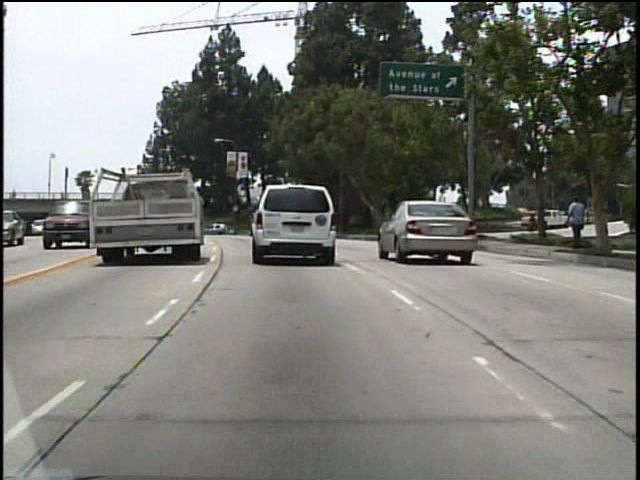person: (561, 191, 588, 255), (9, 186, 19, 205)
